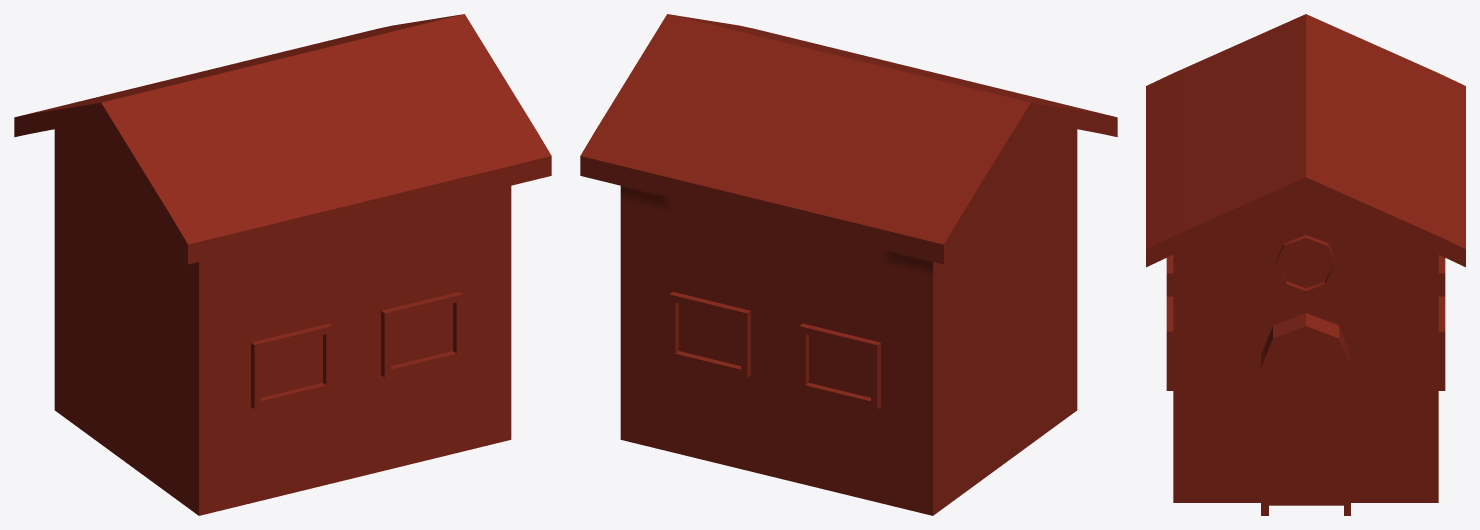
The model's file is hoyse.fbx.
3 views of the same model, side by side, from view 1: azimuth 30°, elevation 25°; view 2: azimuth 150°, elevation 25°; view 3: azimuth 270°, elevation 25° (orthographic). The views are drawn at different scales.
Visible parts, largest first — view 1: Box081; view 2: Box081; view 3: Box081.
Boxes of the visible parts, x1,y1,x2,y2 form: Box081: [14, 14, 551, 515]; Box081: [580, 14, 1117, 515]; Box081: [1146, 14, 1465, 515].
Size of the model in its own units: 29.38 by 28.06 by 24.11.
